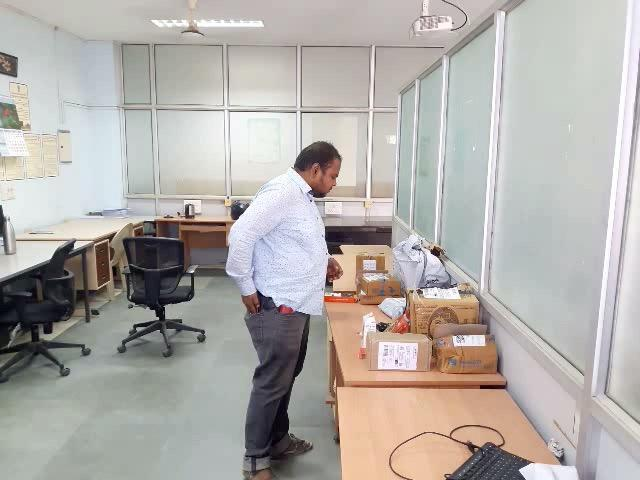shoplifting: (178, 260, 346, 380)
